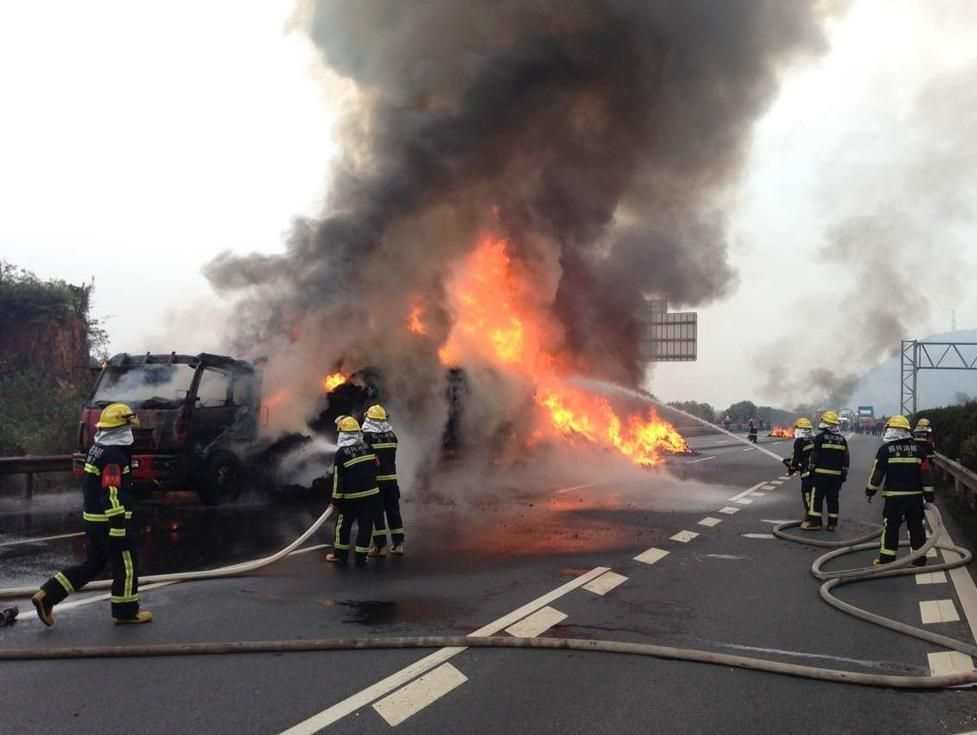fire: (397, 209, 694, 471), (319, 360, 359, 402)
